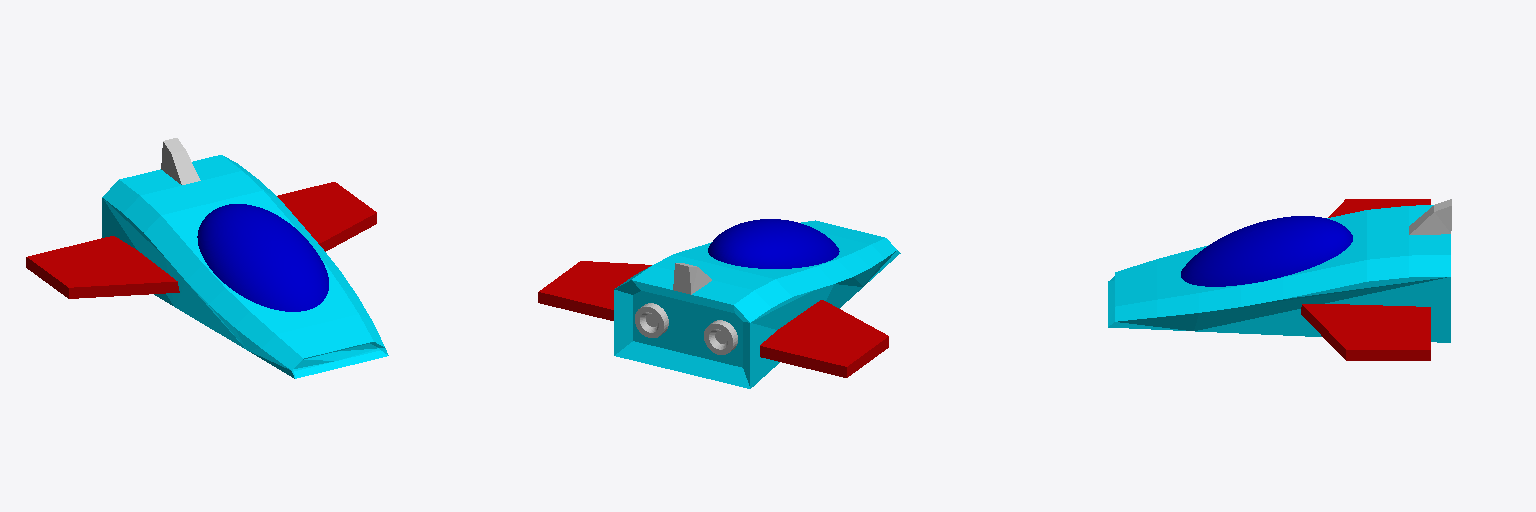
The model's file is ship.obj.
3 renders of one model, left to right at view 1: azimuth 30°, elevation 25°; view 2: azimuth 150°, elevation 25°; view 3: azimuth 270°, elevation 25°, orthographic.
Visible parts, largest first — view 1: Cube, Cube.001, Sphere; view 2: Cube, Cube.001, Sphere, Cylinder, Cylinder.001; view 3: Cube, Sphere, Cube.001.
Part boxes in pixels (x1,y1,x2,y2): Cube: (102,138,388,378); Cube.001: (26,182,376,298); Sphere: (197,204,328,311); Cube: (614,220,900,388); Cube.001: (538,261,888,377); Sphere: (708,219,839,268); Cylinder: (635,303,668,337); Cylinder.001: (704,320,737,354); Cube: (1108,199,1451,342); Sphere: (1181,216,1352,286); Cube.001: (1301,199,1430,360).
Size of the model in its own units: 4.52 by 1.51 by 4.37.